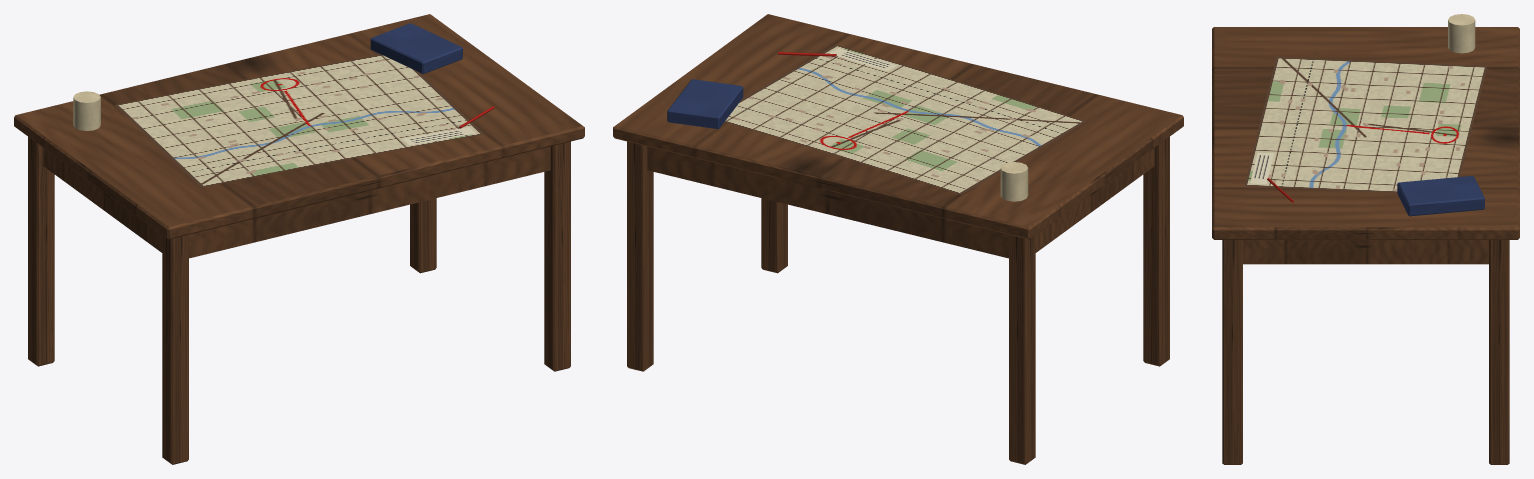
The model's file is OB_Mapa_Stol.fbx.
3 views of the same model, side by side, from view 1: azimuth 30°, elevation 25°; view 2: azimuth 150°, elevation 25°; view 3: azimuth 270°, elevation 25° (orthographic).
Visible parts, largest first — view 1: Stol, Mapa; view 2: Stol, Mapa; view 3: Stol, Mapa.
Boxes of the visible parts, box(x1,y1,x2,y2) form: Stol: box(14, 14, 584, 464); Mapa: box(114, 54, 484, 187); Stol: box(613, 14, 1183, 464); Mapa: box(725, 44, 1086, 194); Stol: box(1212, 14, 1519, 464); Mapa: box(1244, 57, 1487, 192).
Size of the model in its own units: 1.4 by 0.87 by 0.9.
